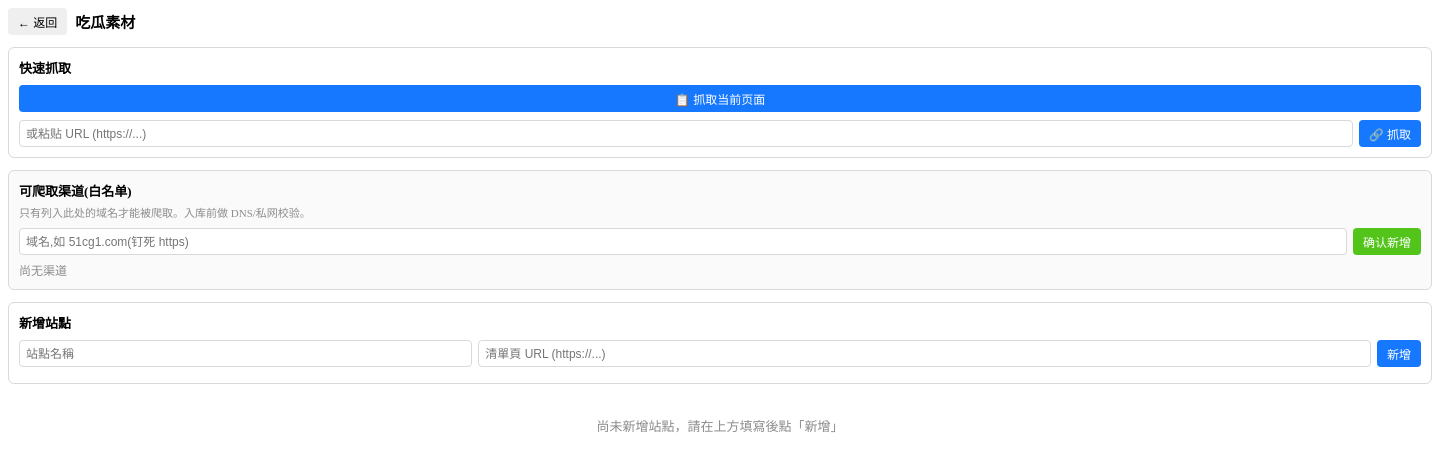
Test: GossipView › 新增渠道 — 未填域名显示验证错误，不调 createChannel
Expected: the field with placeholder "域名,如 51cg1.com(钉死 https)" is shown, [19, 228, 1347, 255]
Click the button "确认新增" at (1387, 242), box [1353, 228, 1421, 255]
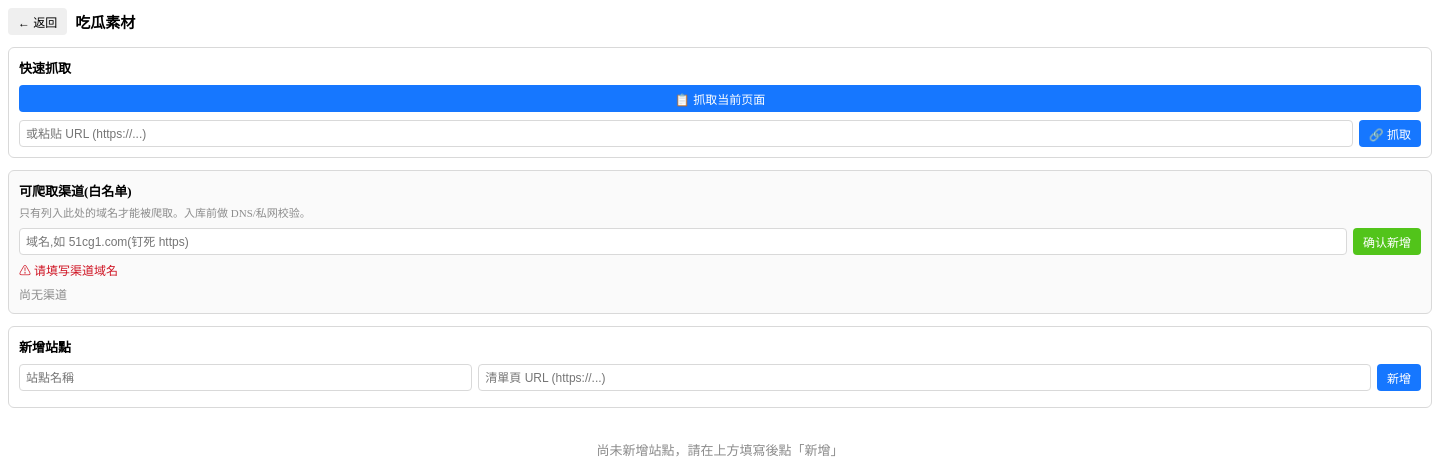
Expected: the text "⚠ 请填写渠道域名" is shown, [19, 264, 118, 278]
